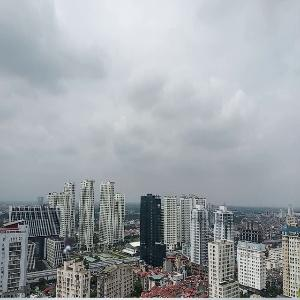drone: (40, 212, 103, 275)
